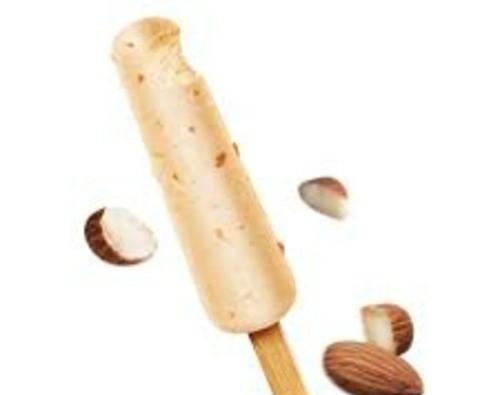Kulfi: (108, 15, 297, 334)
